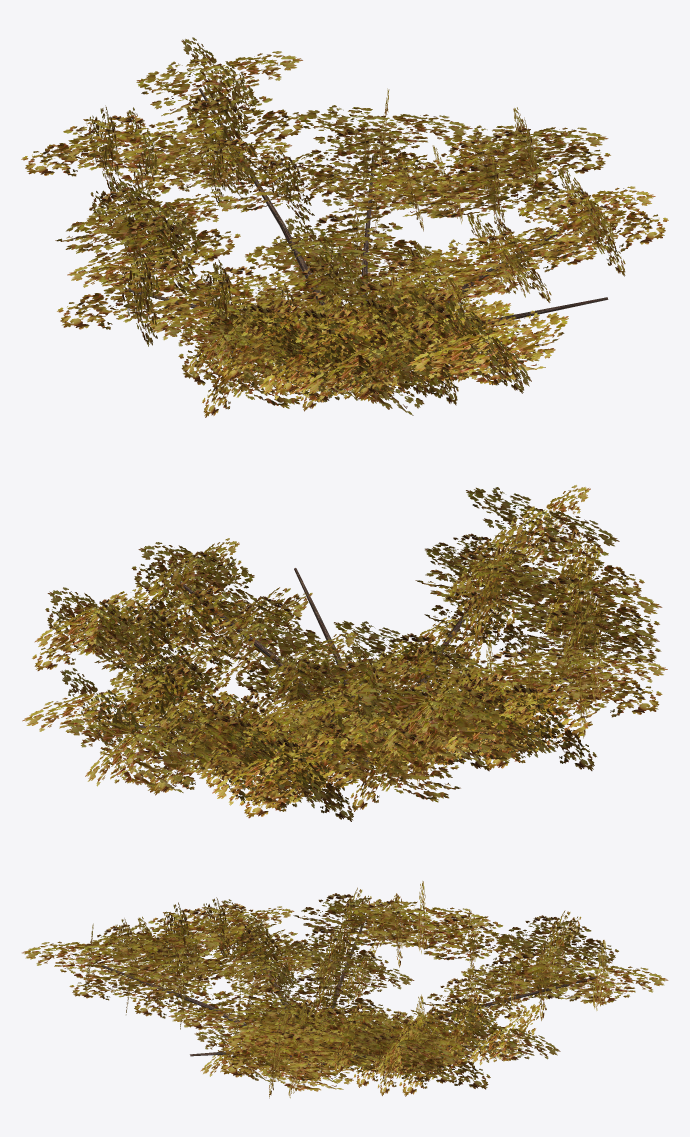
Rendered from bush_3d_04_yellow_lod1.glb.
3 views of the same model, one above another, from view 1: azimuth 30°, elevation 25°; view 2: azimuth 150°, elevation 25°; view 3: azimuth 270°, elevation 25° (orthographic). The views are drawn at different scales.
Parts seen in each view (by area): view 1: foliage_cards, wood_geometry; view 2: foliage_cards, wood_geometry; view 3: foliage_cards, wood_geometry.
Boxes of the visible parts, <box> form: foliage_cards: <box>21,37,668,417</box>; wood_geometry: <box>127,88,608,374</box>; foliage_cards: <box>22,485,667,821</box>; wood_geometry: <box>128,533,605,763</box>; foliage_cards: <box>22,881,668,1098</box>; wood_geometry: <box>101,914,596,1067</box>.
Bounding box in the file's own units: 2.74 × 0.816 × 3.7.
Materials: 2 (2 with a texture image).
